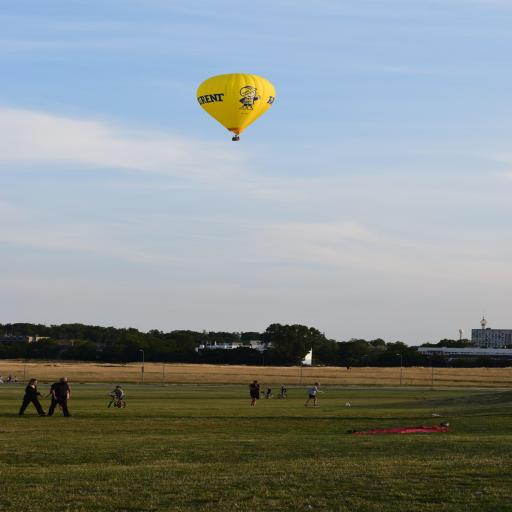hot air ballon: (194, 72, 276, 142)
